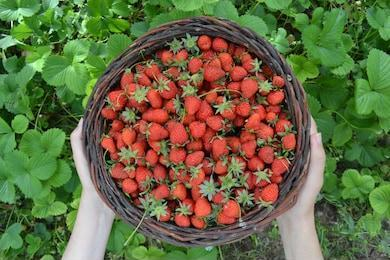Fresa: (132, 162, 157, 191), (221, 197, 248, 223), (198, 61, 229, 83), (258, 181, 282, 209), (105, 88, 133, 112), (143, 120, 172, 143), (155, 75, 181, 100), (192, 192, 215, 220), (167, 119, 190, 147), (269, 153, 293, 179), (216, 98, 240, 124), (181, 91, 203, 119), (166, 179, 190, 204), (208, 137, 231, 163), (239, 76, 262, 100), (196, 94, 215, 122), (96, 131, 118, 155), (181, 148, 206, 169), (106, 160, 129, 181), (279, 129, 298, 154), (257, 143, 276, 167), (120, 122, 138, 147), (119, 175, 138, 197)
